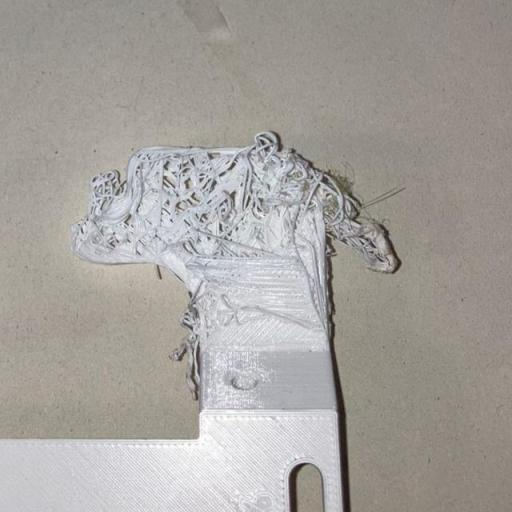spaghetti: (134, 145, 328, 259), (322, 189, 400, 272)
